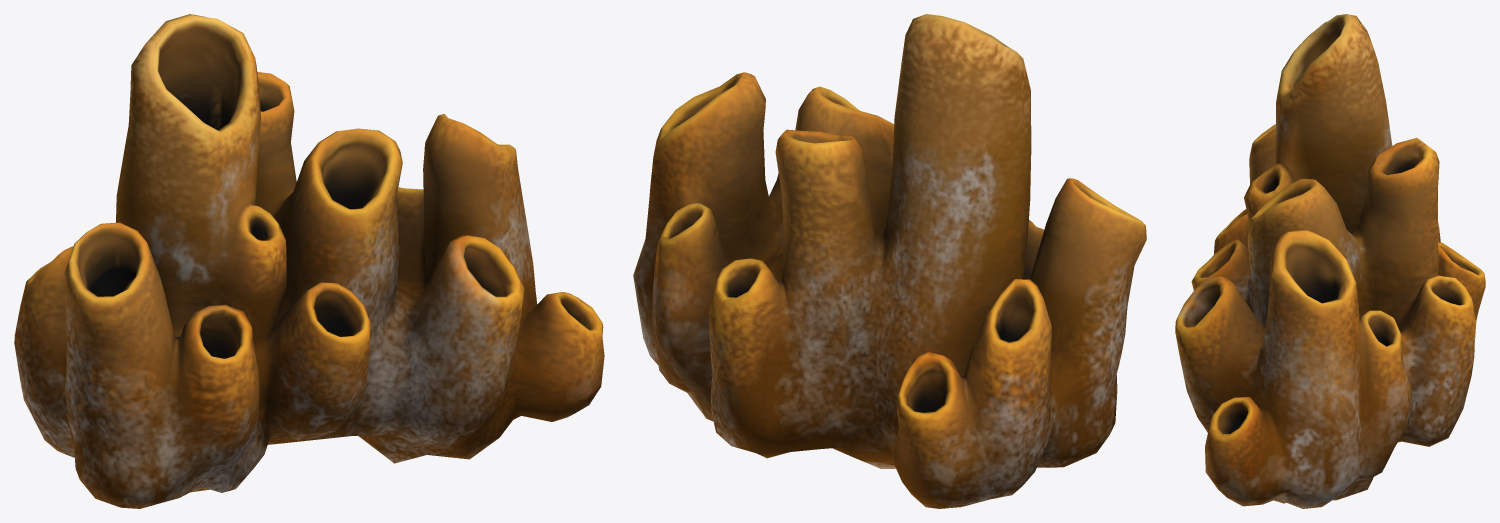
Rendered from Coral06-2.fbx.
3 views of the same model, side by side, from view 1: azimuth 30°, elevation 25°; view 2: azimuth 150°, elevation 25°; view 3: azimuth 270°, elevation 25° (orthographic). The views are drawn at different scales.
Parts seen in each view (by area): view 1: Coral_15_2; view 2: Coral_15_2; view 3: Coral_15_2.
Boxes of the visible parts, box(x1,y1,x2,y2) form: Coral_15_2: box(14, 14, 604, 508); Coral_15_2: box(633, 14, 1146, 508); Coral_15_2: box(1175, 14, 1485, 508).
Size of the model in its own units: 153 by 139 by 99.06.
